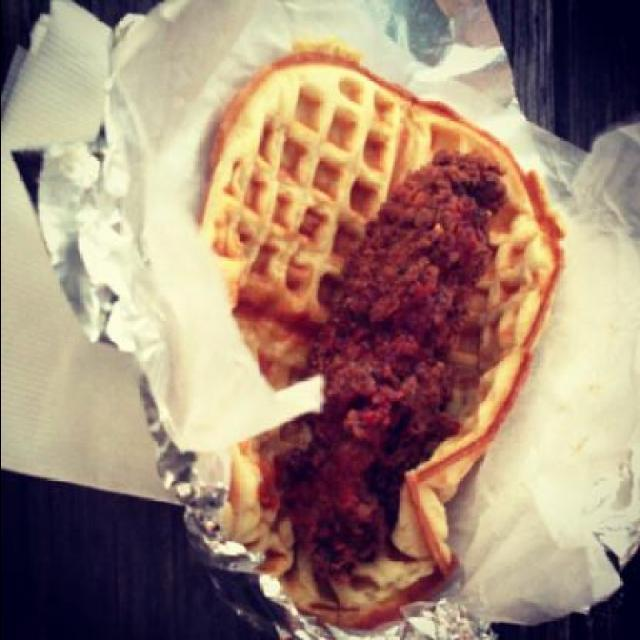Waffle: (202, 38, 568, 632)
